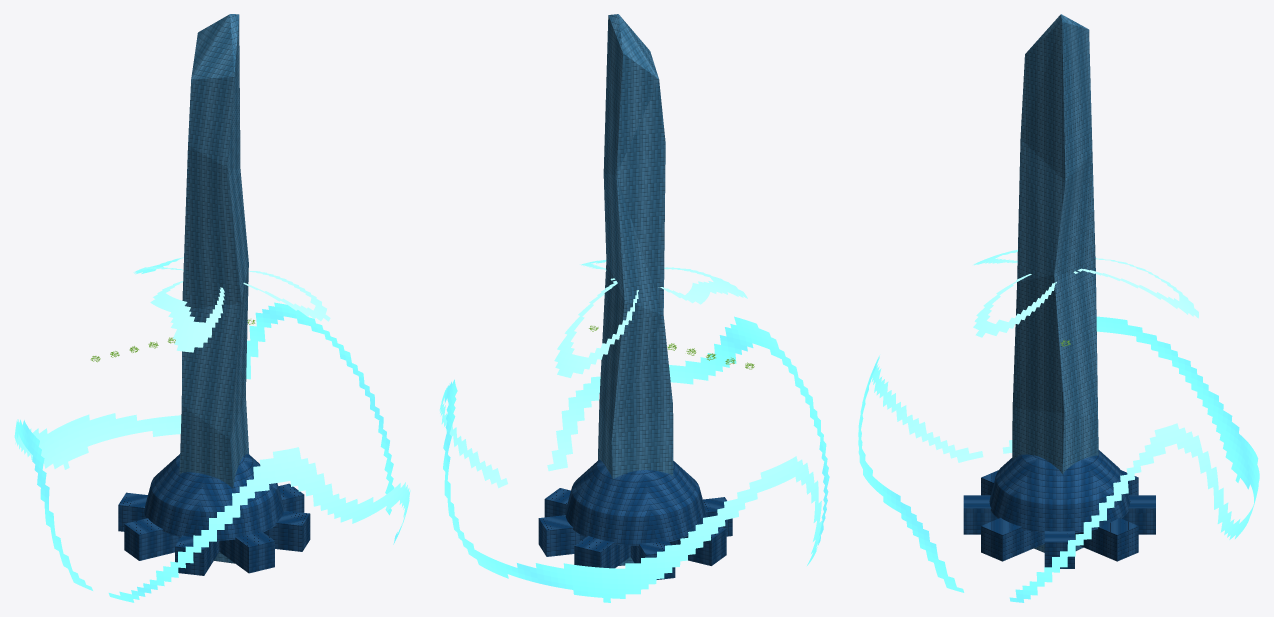
File: Catalog-41.glb
3 renders of one model, left to right at view 1: azimuth 30°, elevation 25°; view 2: azimuth 150°, elevation 25°; view 3: azimuth 270°, elevation 25°, orthographic.
Visible parts, largest first — view 1: Metropolis Glass Glacier, Metropolis Sphere Screen 01, Metropolis Glass Azure; view 2: Metropolis Glass Glacier, Metropolis Sphere Screen 01, Metropolis Glass Azure; view 3: Metropolis Glass Glacier, Metropolis Sphere Screen 01, Metropolis Glass Azure.
Boxes of the visible parts, bbox=[...] form: Metropolis Glass Glacier: bbox=[179, 14, 248, 563]; Metropolis Sphere Screen 01: bbox=[14, 257, 410, 602]; Metropolis Glass Azure: bbox=[118, 453, 310, 575]; Metropolis Glass Glacier: bbox=[598, 14, 673, 565]; Metropolis Sphere Screen 01: bbox=[439, 260, 829, 602]; Metropolis Glass Azure: bbox=[538, 460, 732, 579]; Metropolis Glass Glacier: bbox=[1012, 14, 1098, 552]; Metropolis Sphere Screen 01: bbox=[858, 249, 1259, 602]; Metropolis Glass Azure: bbox=[963, 450, 1155, 568].
Size of the model in its own units: 360 by 523 by 357.
5 materials, 2 textured.
